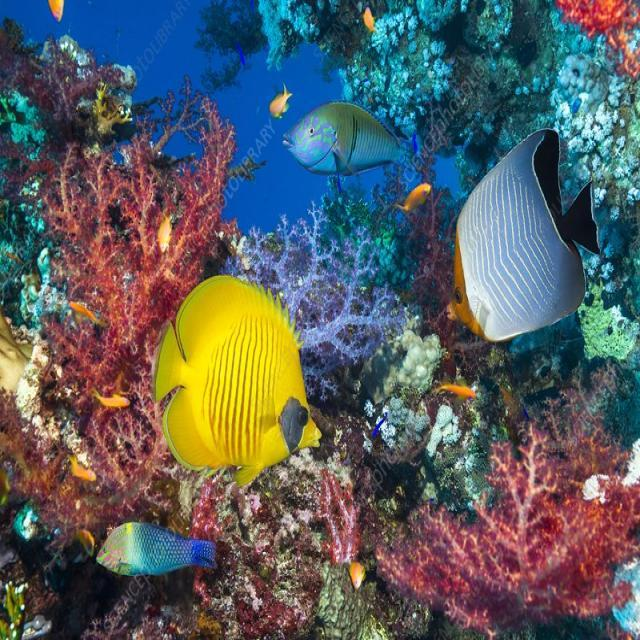ButterflyFish: (157, 279, 322, 490), (446, 131, 598, 347)
